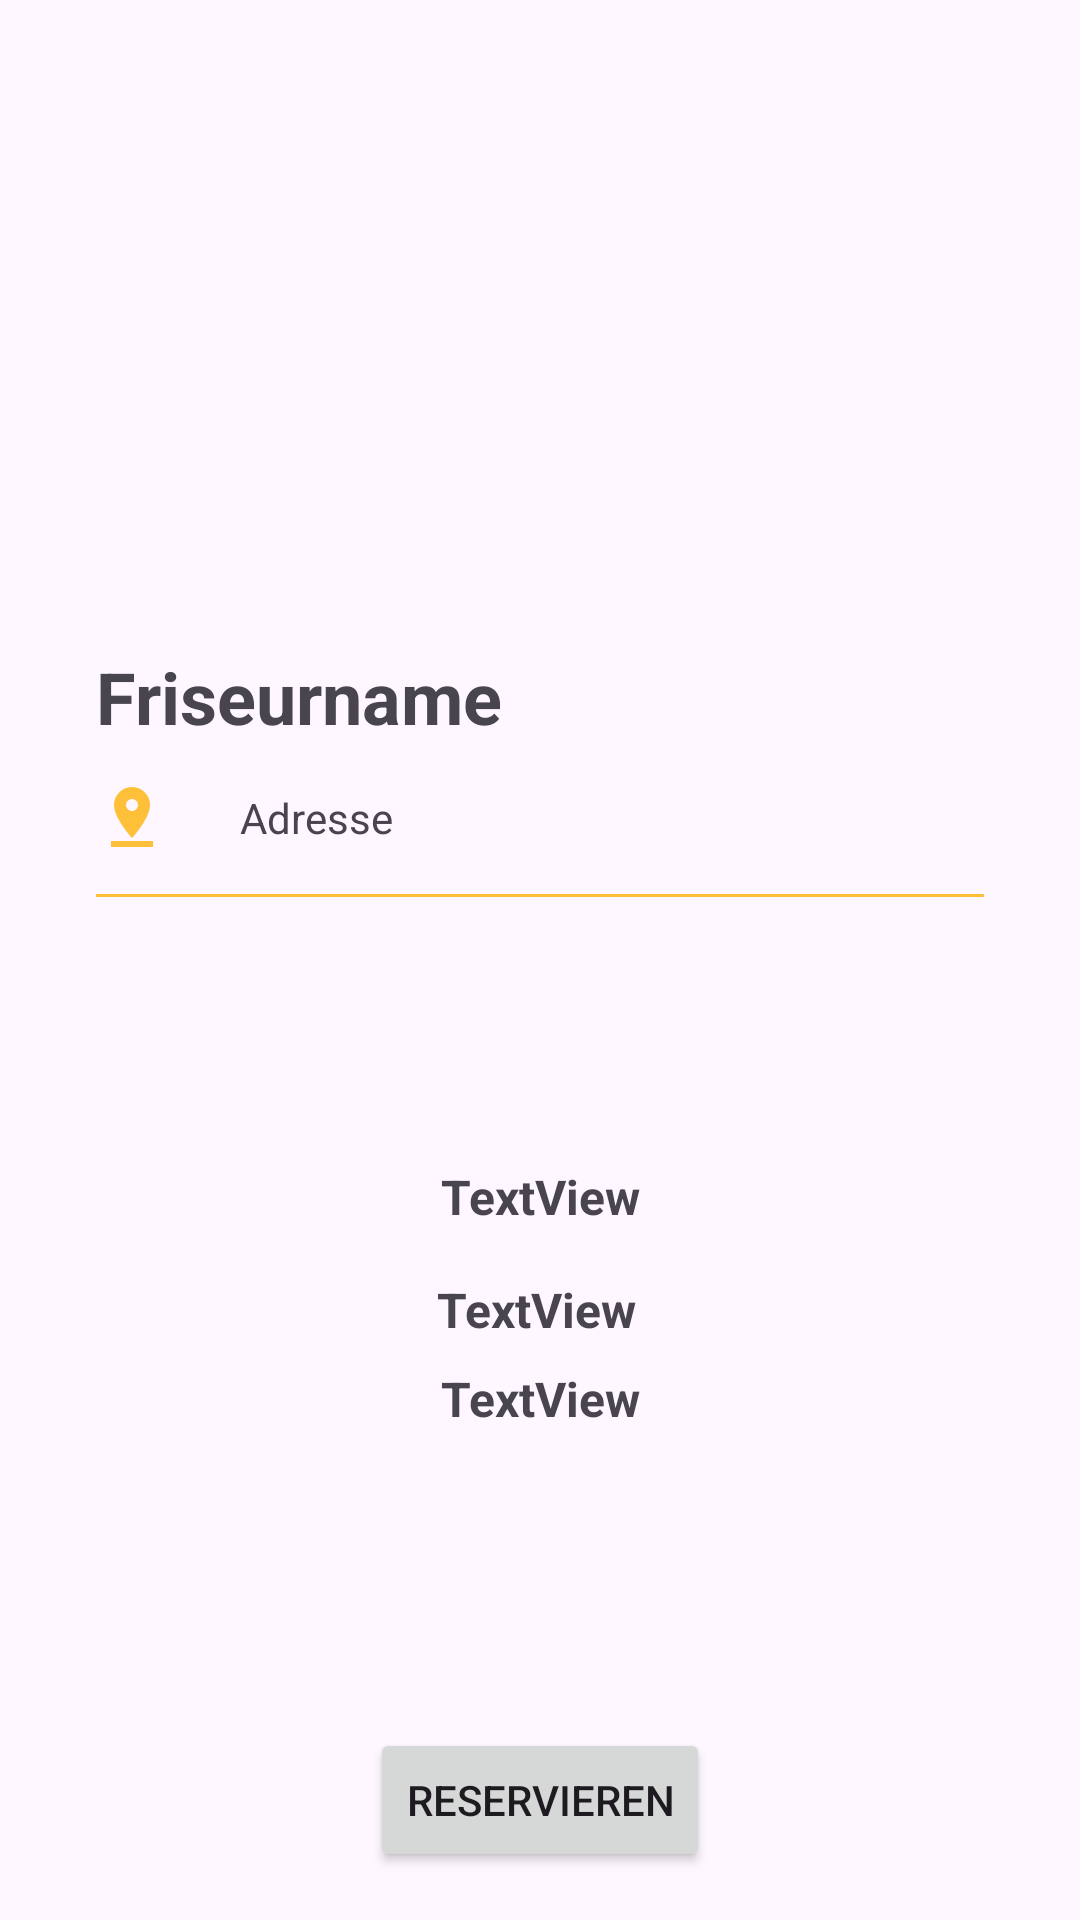

Icon bounding boxes for this 1080 x 1920 phone screenshot, format (x1, y1, x2, y2):
pin drop: (111, 787, 153, 847)
